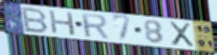7: (111, 14, 132, 44)
8: (143, 19, 166, 44)
B: (21, 6, 51, 34)
H: (48, 9, 78, 37)
R: (79, 12, 110, 40)
X: (167, 20, 196, 48)
